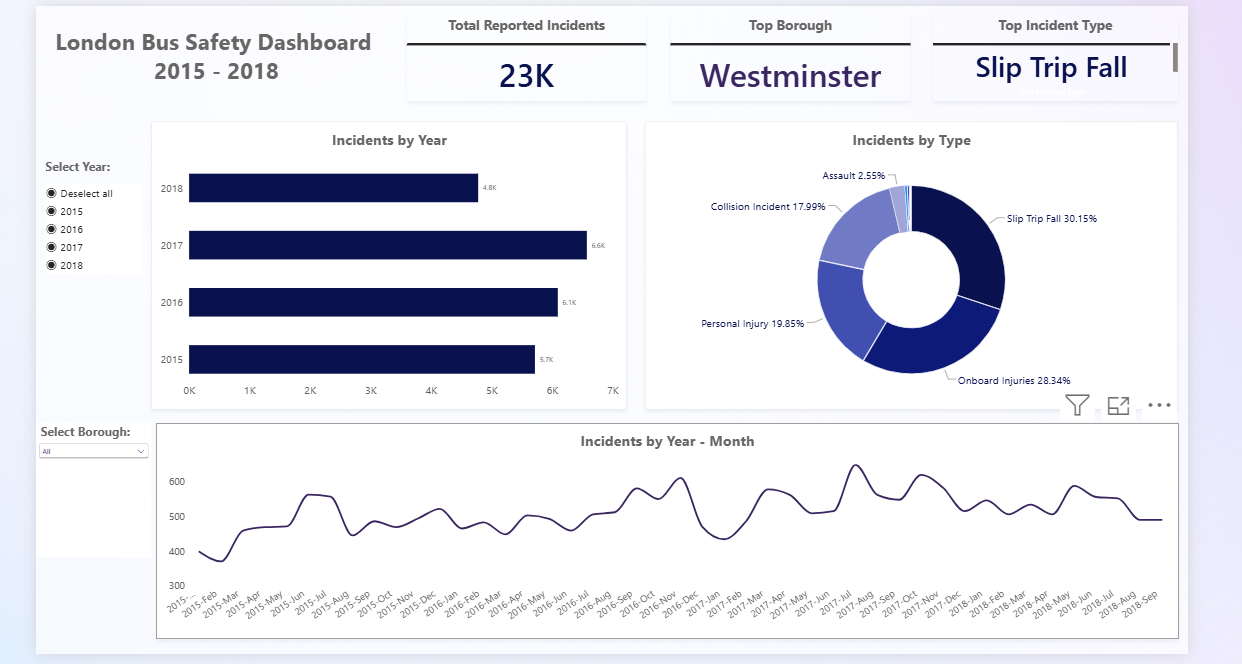

The dashboard page shown, as its layout file describes it:
{"tool":"powerbi","page":{"name":"Overview","canvas":[1920,1080],"ordinal":0},"visuals":[{"type":"listSlicer","title":"Select Year:","fields":{"Values":["dim_date.Year"]},"box":[0,240,192,320],"z":0},{"type":"cardVisual","title":"Total Reported Incidents","fields":{"Data":["_measure.Total Incident"]},"box":[618.7,16,400,144],"z":1000},{"type":"barChart","title":"Incidents by Year","fields":{"Category":["dim_date.Year"],"Y":["_measure.Total Incident"]},"box":[192,192,792,480],"z":2000},{"type":"cardVisual","title":"Top Borough","fields":{"Data":["Min(dim_borough.Borough)"]},"box":[1057.3,16,400,144],"z":3000},{"type":"donutChart","title":"Incidents by Type","fields":{"Category":["fact_incidents.incident_event_type"],"Y":["_measure.Total Incident"]},"box":[1016,192,888,480],"z":4000},{"type":"lineChart","title":" Incidents by Year - Month","fields":{"Category":["dim_date.Year Month"],"Y":["_measure.Total Incident"]},"box":[200,696,1704,360],"z":5000},{"type":"slicer","title":"Select Borough:","fields":{"Values":["dim_borough.borough"]},"box":[0,696,192,224],"z":6000},{"type":"textbox","box":[24,16,552,144],"z":7000},{"type":"cardVisual","title":"Top Incident Type","fields":{"Data":["Min(fact_incidents.Incident Type)","_measure.Total Incidents% by Type"]},"box":[1496,16,408,144],"z":8000}]}

Visuals, with their boxes on the page's 1920x1080 design canvas (x1, y1, x2, y2). These are canvas units, not pixel positions in the 1242x664 screenshot, which may show the page scaled, cropped or inside an application window:
"Select Year:" listSlicer: (0,240,192,560)
"Total Reported Incidents" cardVisual: (619,16,1019,160)
"Incidents by Year" barChart: (192,192,984,672)
"Top Borough" cardVisual: (1057,16,1457,160)
"Incidents by Type" donutChart: (1016,192,1904,672)
" Incidents by Year - Month" lineChart: (200,696,1904,1056)
"Select Borough:" slicer: (0,696,192,920)
textbox: (24,16,576,160)
"Top Incident Type" cardVisual: (1496,16,1904,160)
